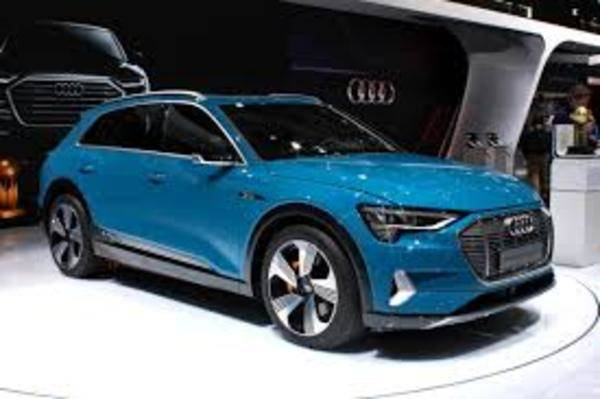car: (40, 82, 556, 349)
